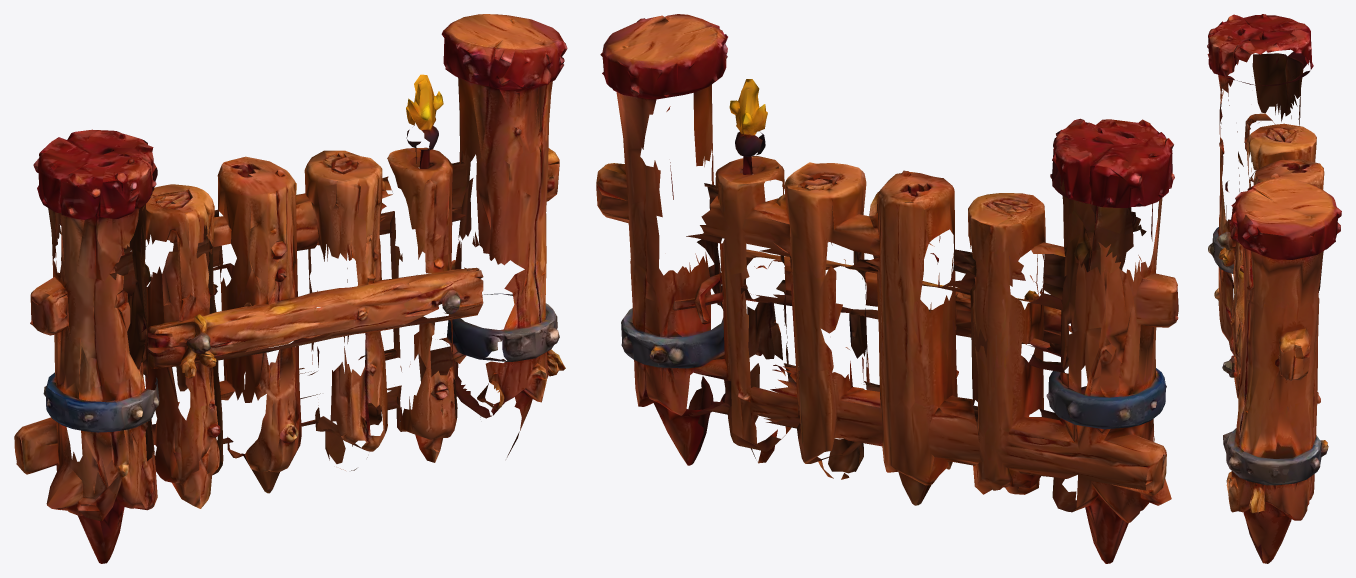
Rendered from tripo-palicada154.glb.
3 views of the same model, side by side, from view 1: azimuth 30°, elevation 25°; view 2: azimuth 150°, elevation 25°; view 3: azimuth 270°, elevation 25° (orthographic). The views are drawn at different scales.
Visible parts, largest first — view 1: tripo_node_33bf973a-4d6e-414c-ba71-18f77c98eadc; view 2: tripo_node_33bf973a-4d6e-414c-ba71-18f77c98eadc; view 3: tripo_node_33bf973a-4d6e-414c-ba71-18f77c98eadc.
Part boxes in pixels (x1=…): tripo_node_33bf973a-4d6e-414c-ba71-18f77c98eadc: x1=14, y1=14, x2=567, y2=563; tripo_node_33bf973a-4d6e-414c-ba71-18f77c98eadc: x1=596, y1=14, x2=1178, y2=563; tripo_node_33bf973a-4d6e-414c-ba71-18f77c98eadc: x1=1207, y1=14, x2=1341, y2=563.
Bounding box in the file's own units: 0.9803 × 0.7354 × 0.2419.
Materials: 1 (1 with a texture image).
